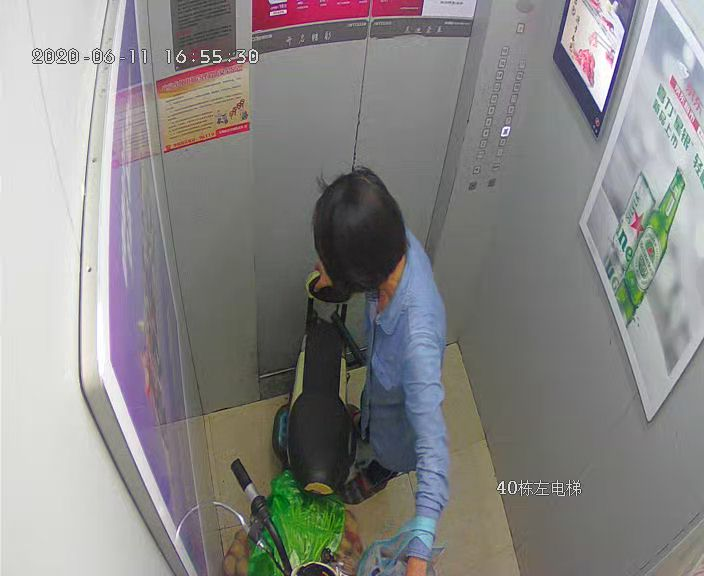Electric-bicycle: (268, 271, 379, 575)
